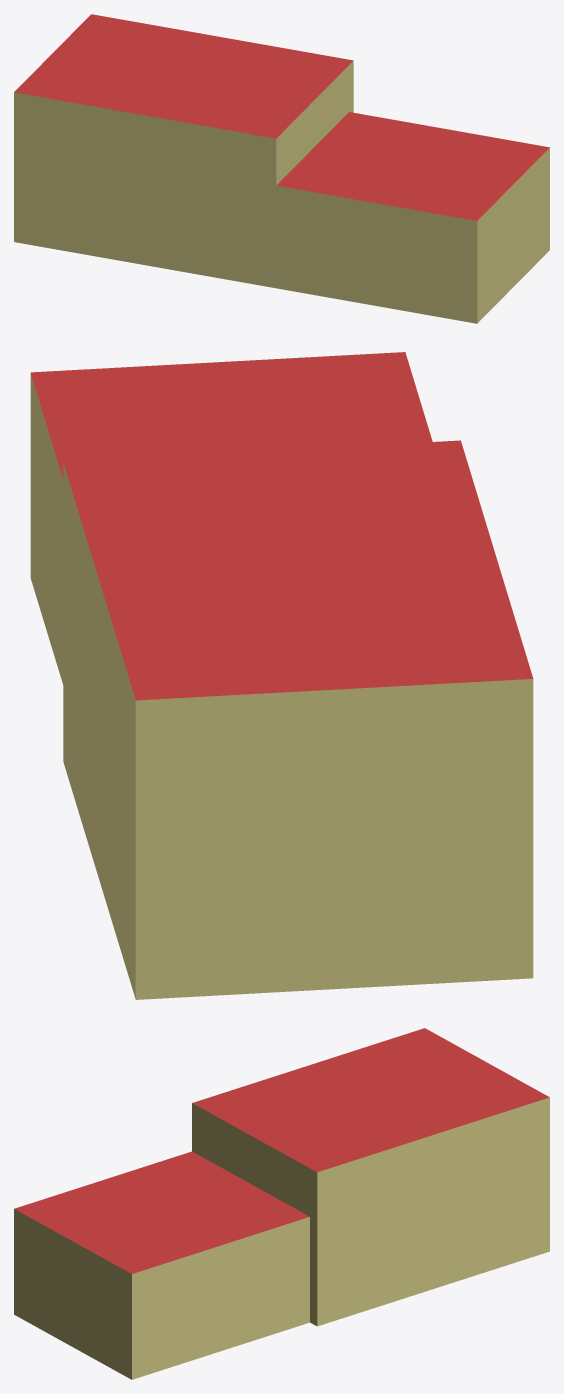
The picture shows the model from 3 angles, top to bottom: view 1: azimuth 30°, elevation 25°; view 2: azimuth 150°, elevation 25°; view 3: azimuth 270°, elevation 25°; orthographic projection. The views are drawn at different scales.
Bounding box in the file's own units: 27.17 × 31.12 × 9.87.
